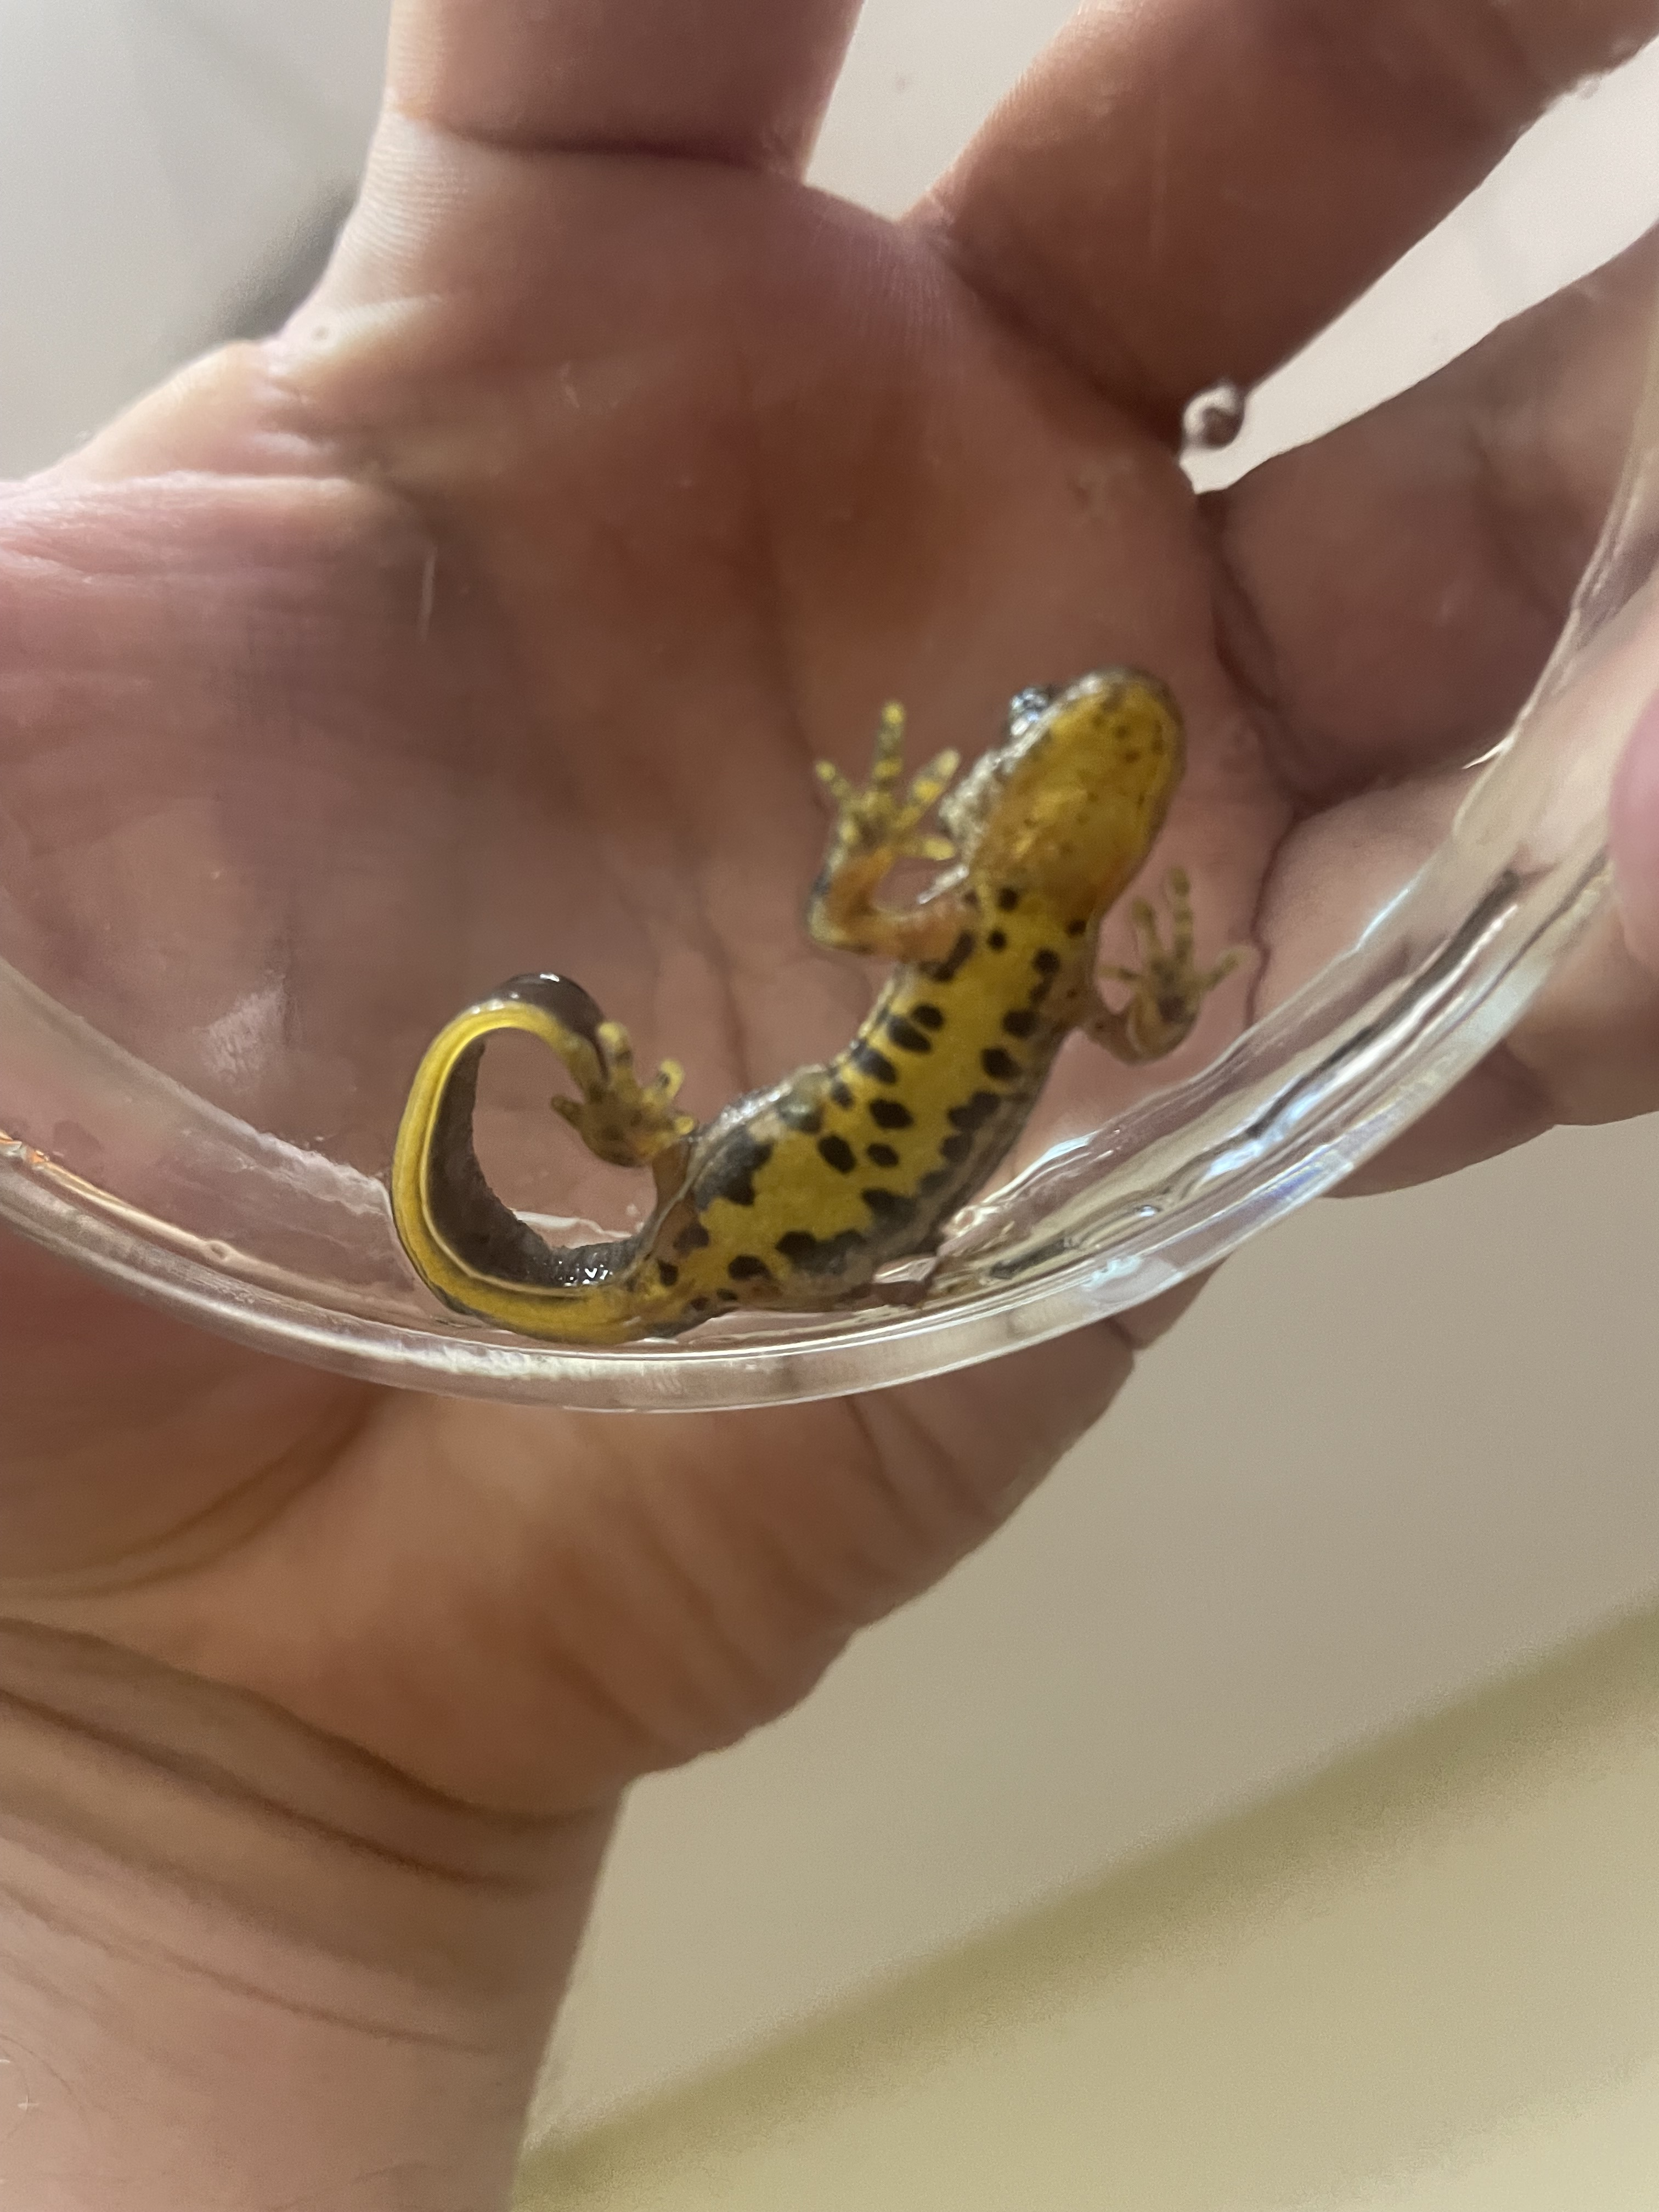Karelin_newt: (694, 961, 1073, 1275)
